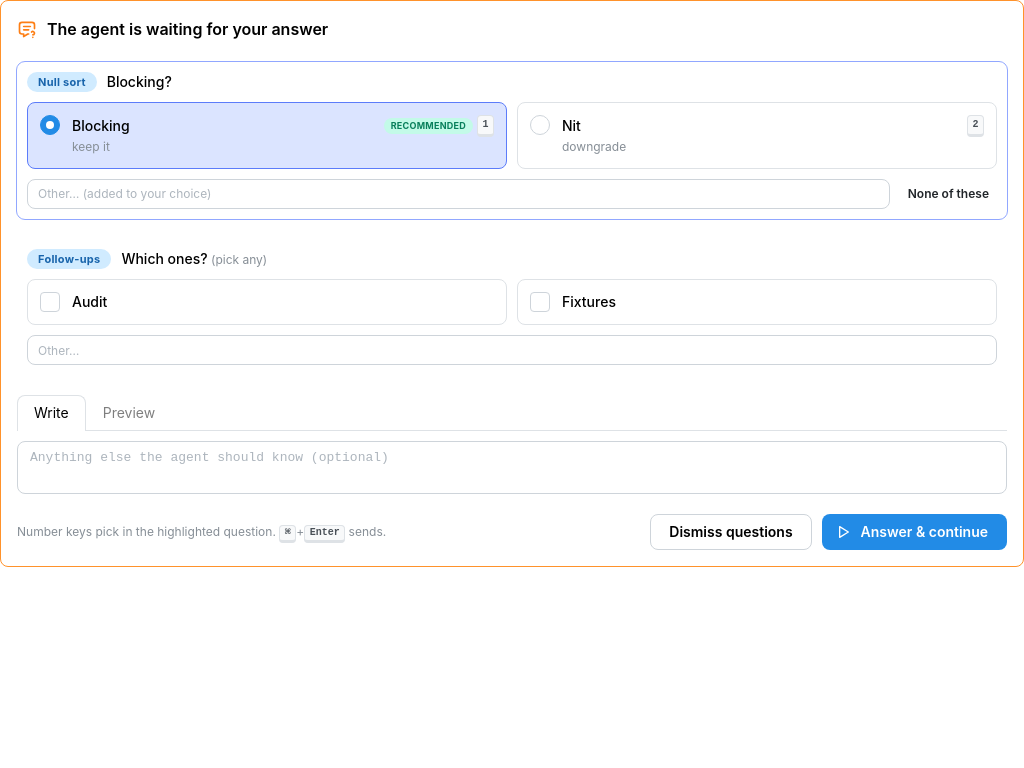
Test: QuestionPanel › does not dismiss when the user cancels the confirmation
Click the button "Dismiss questions": (731, 532) [650,514,812,550]
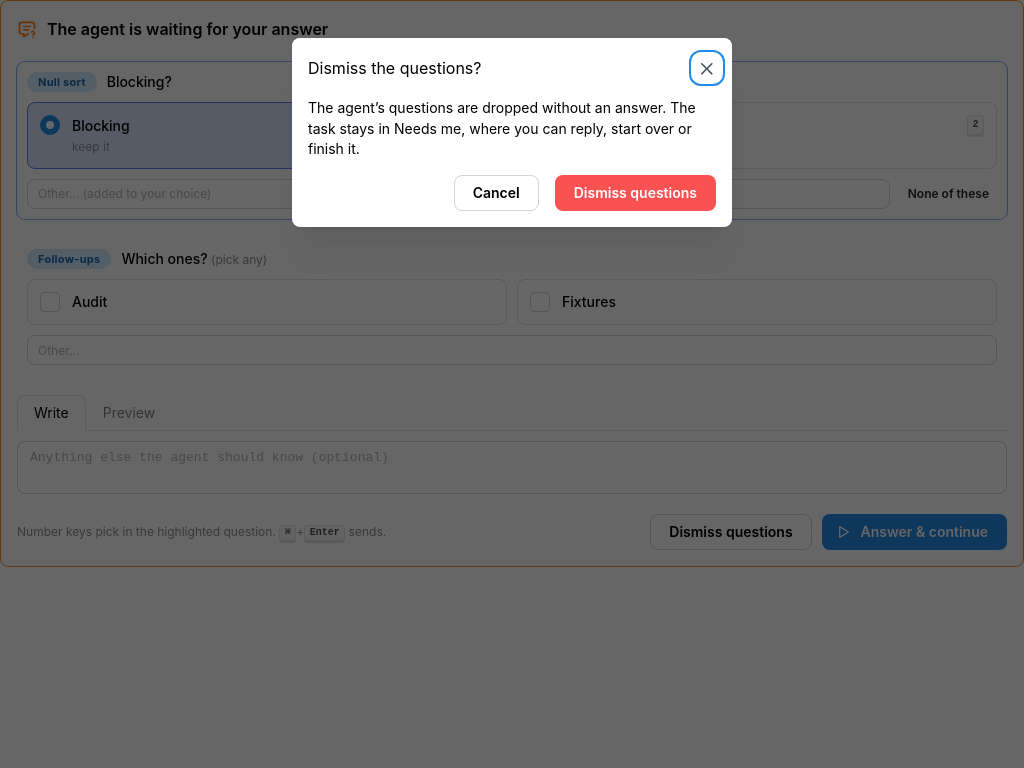
Click the button "Cancel": (496, 193) [454,175,539,211]
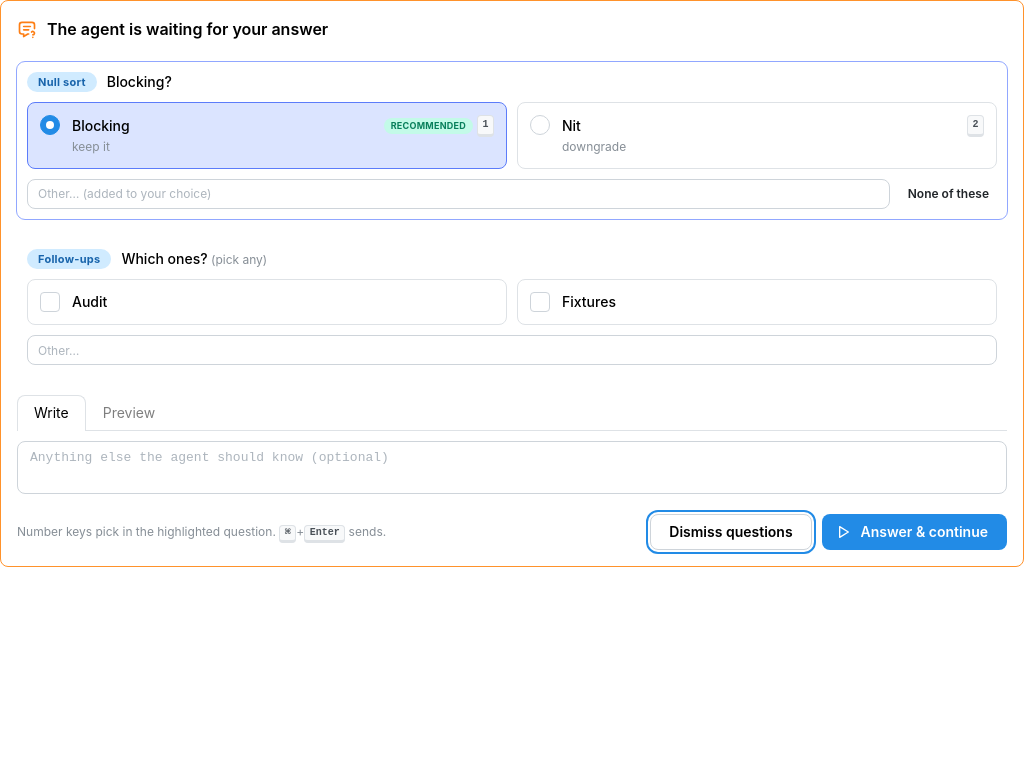
Expected: the heading "Dismiss the questions?" is gone
